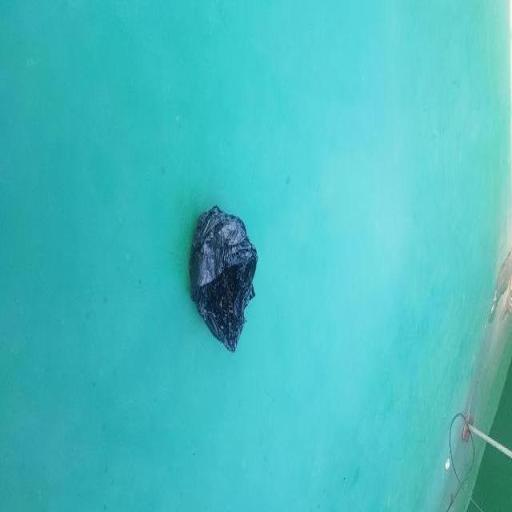plastic-bag: (190, 204, 260, 356)
